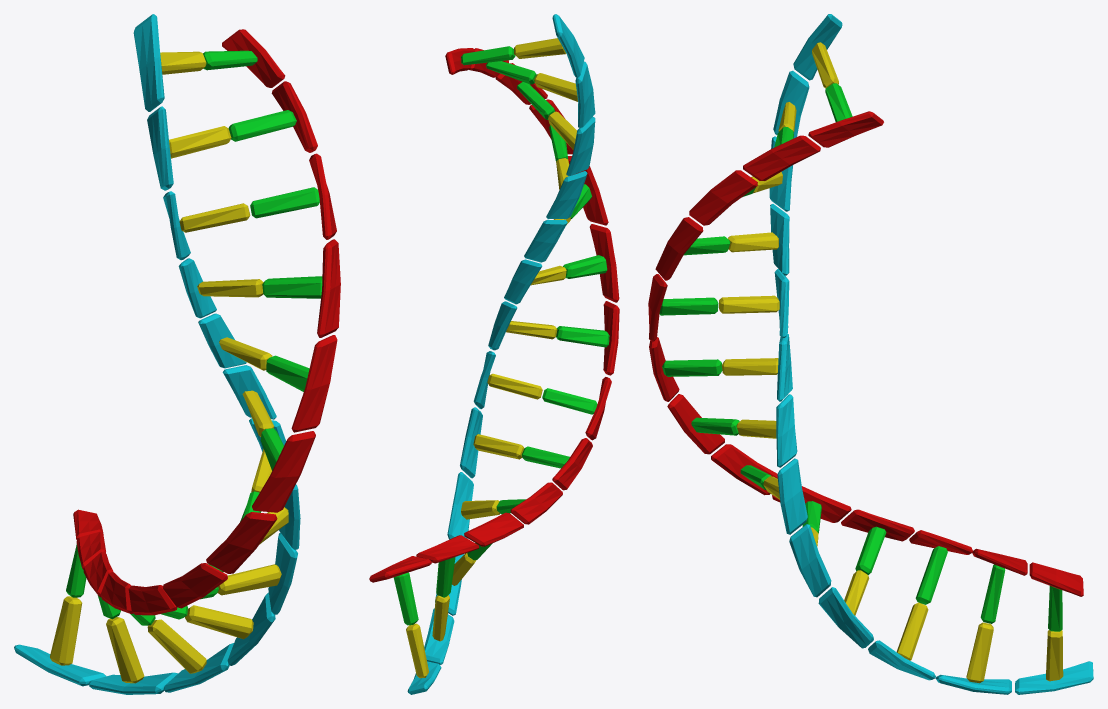
Rendered from DNA_turn.fbx.
3 views of the same model, side by side, from view 1: azimuth 30°, elevation 25°; view 2: azimuth 150°, elevation 25°; view 3: azimuth 270°, elevation 25° (orthographic). The views are drawn at different scales.
Parts seen in each view (by area): view 1: Cube_15, Cube_17, Cube_13, Cube_26, Cube_19, Cube_11, Cube_1, Cube_25, Cube_1_2, Cube_24, Cube_1_3, Cube_1_4 (+31 smaller); view 2: Cube_15, Cube_5, Cube_7, Cube_20, Cube_18, Cube_8, Cube_22, Cube_13, Cube_10, Cube_3, Cube_9, Cube_16 (+31 smaller); view 3: Cube_23, Cube_21, Cube_10, Cube_12, Cube_2_2, Cube_8, Cube_25, Cube_19, Cube_26, Cube_13, Cube_14, Cube_11 (+28 smaller).
Part boxes in pixels (left/top/right/bottom): Cube_15: left=252, top=431, right=315, bottom=512; Cube_17: left=291, top=335, right=337, bottom=432; Cube_13: left=206, top=512, right=277, bottom=573; Cube_26: left=133, top=14, right=164, bottom=111; Cube_19: left=317, top=239, right=340, bottom=337; Cube_11: left=163, top=563, right=227, bottom=608; Cube_1: left=50, top=596, right=82, bottom=665; Cube_25: left=222, top=29, right=285, bottom=87; Cube_1_2: left=106, top=617, right=144, bottom=683; Cube_24: left=147, top=106, right=173, bottom=190; Cube_1_3: left=147, top=619, right=206, bottom=673; Cube_1_4: left=185, top=605, right=253, bottom=639; Cube_15: left=589, top=224, right=619, bottom=302; Cube_5: left=464, top=512, right=523, bottom=546; Cube_7: left=510, top=482, right=562, bottom=524; Cube_20: left=546, top=171, right=587, bottom=219; Cube_18: left=524, top=219, right=567, bottom=262; Cube_8: left=447, top=472, right=473, bottom=539; Cube_22: left=566, top=117, right=595, bottom=176; Cube_13: left=603, top=301, right=619, bottom=375; Cube_10: left=460, top=407, right=482, bottom=478; Cube_3: left=416, top=535, right=479, bottom=563; Cube_9: left=552, top=438, right=592, bottom=490; Cube_16: left=504, top=259, right=542, bottom=304; Cube_23: left=743, top=135, right=820, bottom=180; Cube_21: left=689, top=170, right=757, bottom=225; Cube_10: left=789, top=524, right=831, bottom=597; Cube_12: left=777, top=458, right=807, bottom=534; Cube_2_2: left=1015, top=661, right=1093, bottom=694; Cube_8: left=818, top=587, right=873, bottom=648; Cube_25: left=808, top=111, right=883, bottom=147; Cube_19: left=655, top=217, right=703, bottom=280; Cube_26: left=793, top=14, right=842, bottom=80; Cube_13: left=667, top=394, right=724, bottom=454; Cube_14: left=776, top=394, right=797, bottom=467; Cube_11: left=711, top=444, right=777, bottom=495.
Bounding box in the file's own units: 93.33 × 478 × 293.
